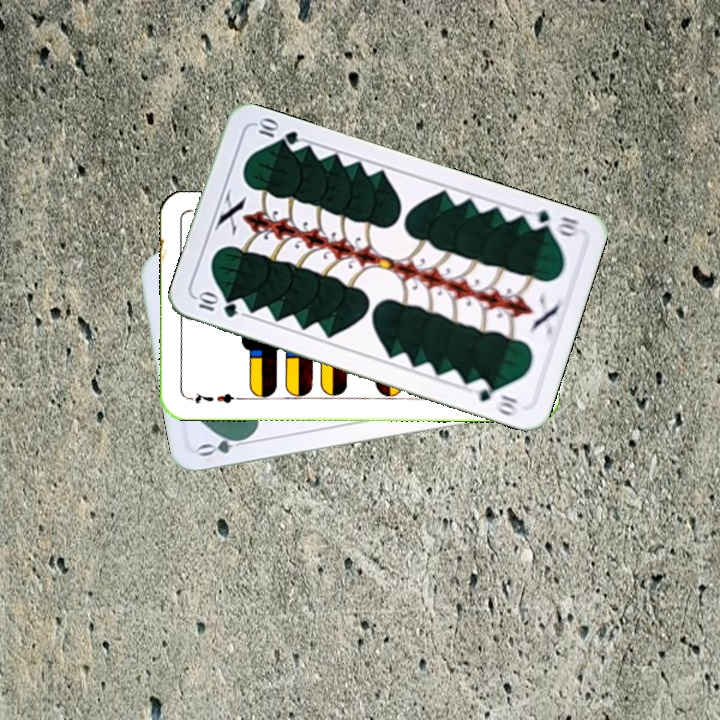E7: (184, 389, 243, 406)
G10: (522, 206, 582, 240), (192, 289, 241, 321)
GO: (194, 431, 254, 459)
